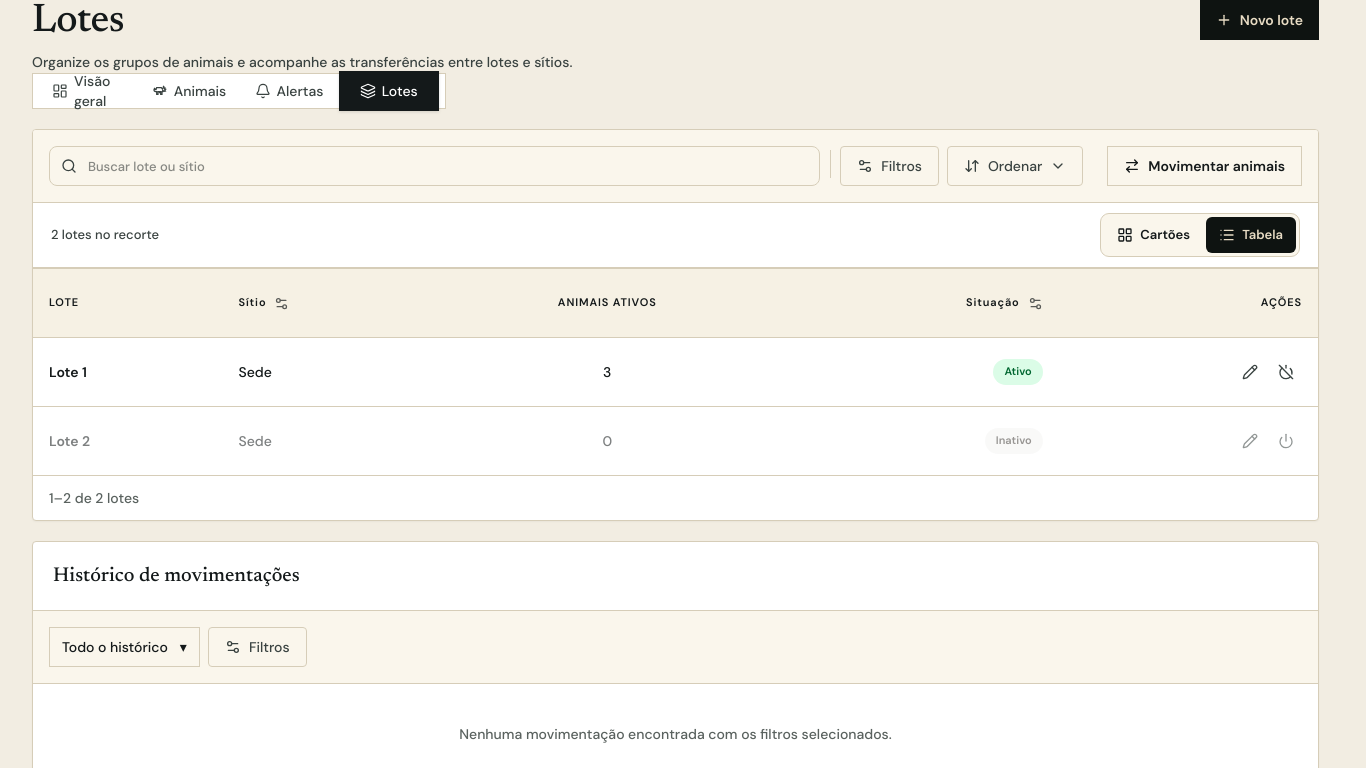
Test: Lotes do rebanho › erro 409 do servidor (lote com animais) aparece no ErrorBox sem esconder o botão
Click the button named "Desativar Lote 1" at (1286, 372), box [1270,354,1302,390]
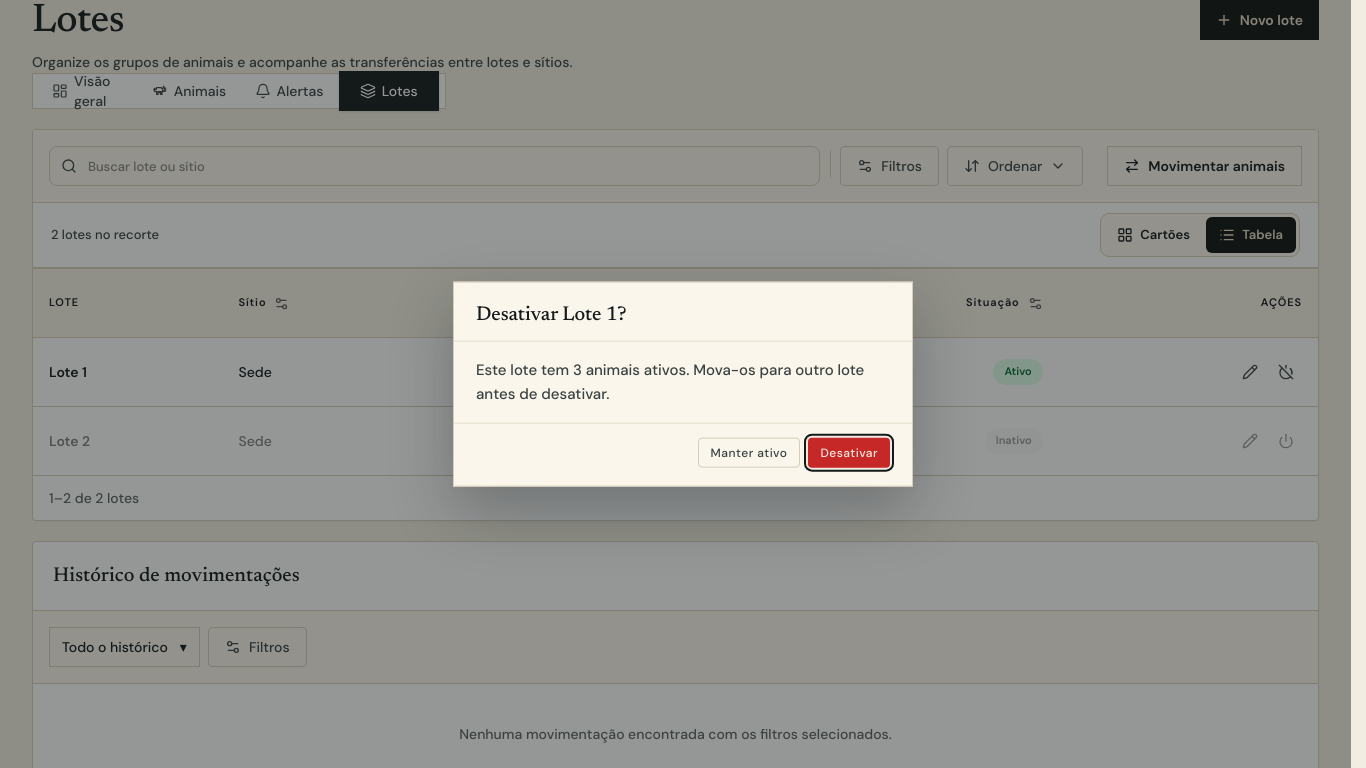
Check: the heading "Desativar Lote 1?" is shown, box [476,305,626,325]
Click the button "Desativar" at (849, 452), box [808,437,890,467]
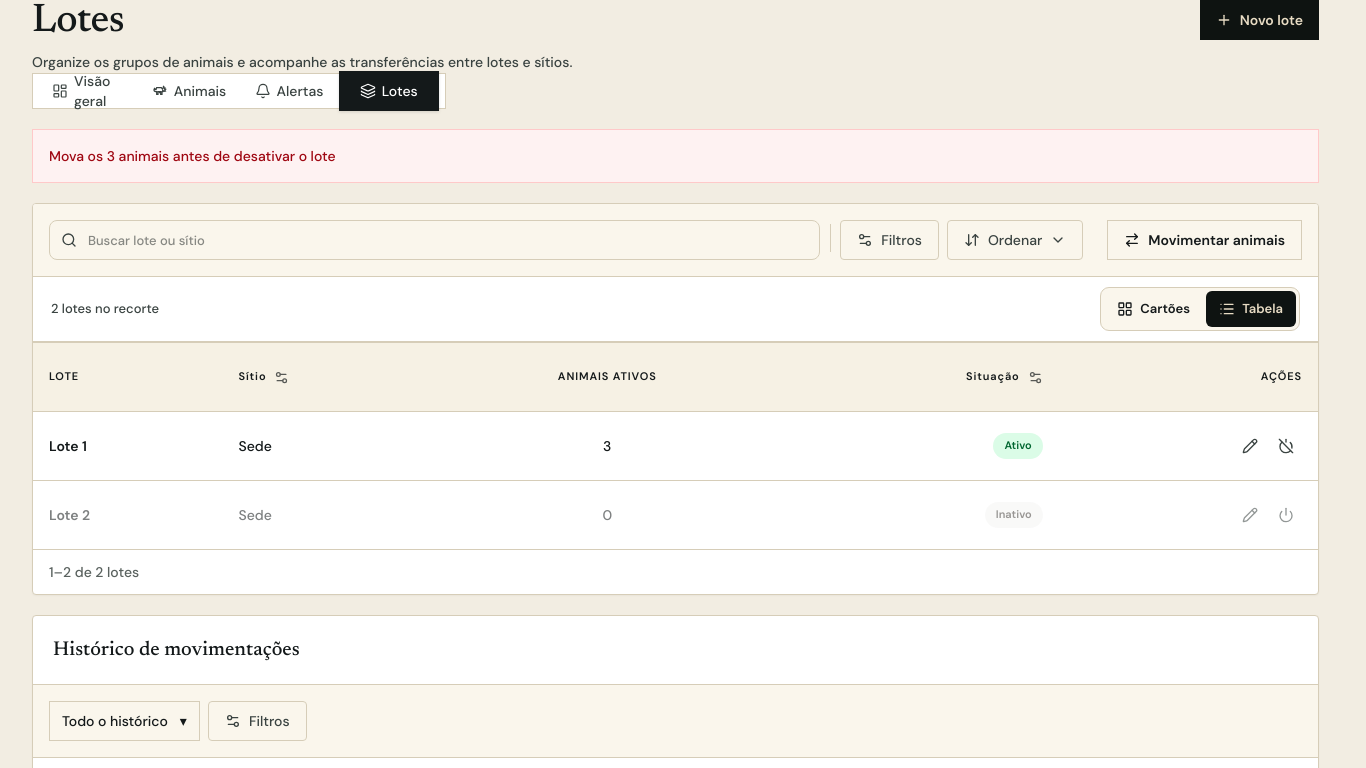
Check: the button named "Desativar Lote 1" is shown, box [1270,428,1302,464]
Check: the text "Mova os 3 animais antes de desativar o lote" is shown, box [32,129,1319,183]
Check: the dialog is gone
